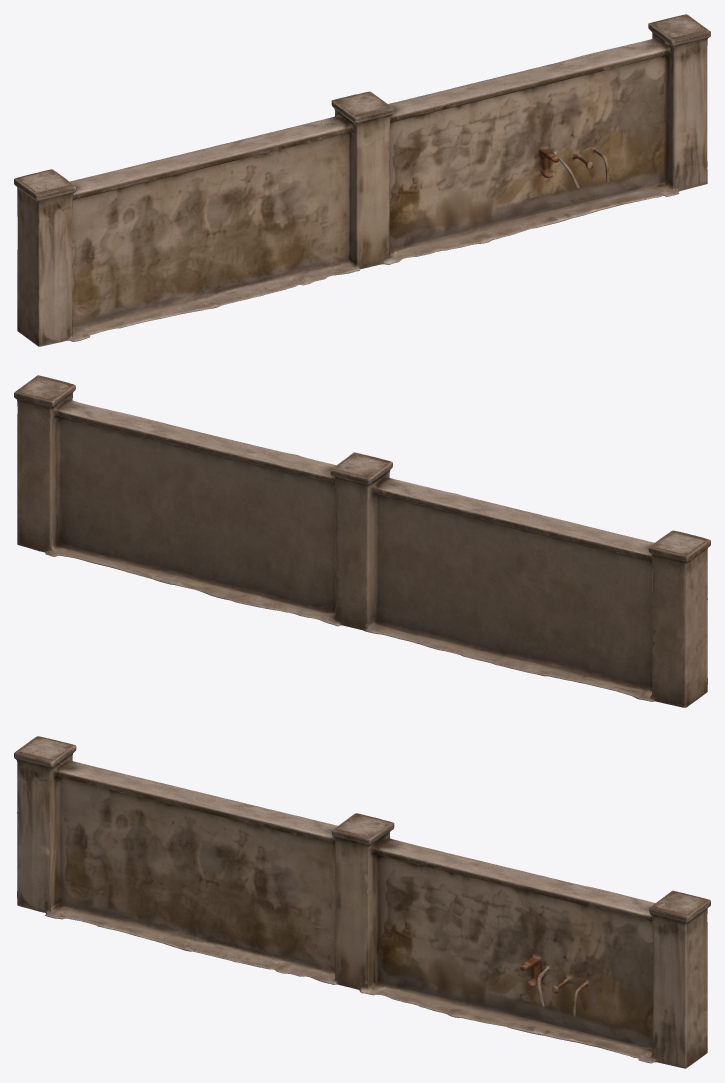
The model's file is Meshy_AI_Weathered_Wall_Under__0913172621_texture.fbx.
3 renders of one model, top to bottom at view 1: azimuth 30°, elevation 25°; view 2: azimuth 150°, elevation 25°; view 3: azimuth 330°, elevation 25°, orthographic.
Parts seen in each view (by area): view 1: Mesh_0; view 2: Mesh_0; view 3: Mesh_0.
Part boxes in pixels (x1,y1,x2,y2): Mesh_0: [14, 14, 710, 346]; Mesh_0: [14, 375, 710, 707]; Mesh_0: [14, 736, 710, 1068].
Bounding box in the file's own units: 190 × 41.56 × 16.32.
1 material, 1 textured.
